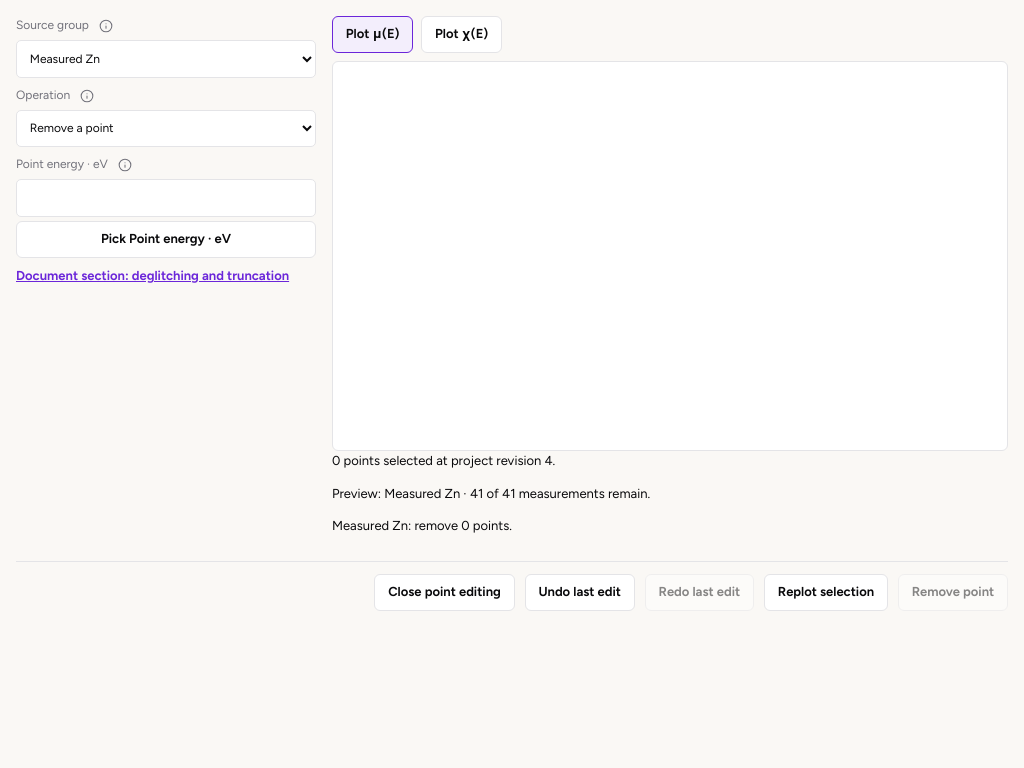
it: rejects an inconsistent plot response
This screenshot has width=1024, height=768.
Check: the text "0 points selected at project revision 4." is shown, box [332, 453, 555, 468]
Type "7032" into the number field labelled "Point energy · eV" at [166, 198], box [16, 179, 316, 217]
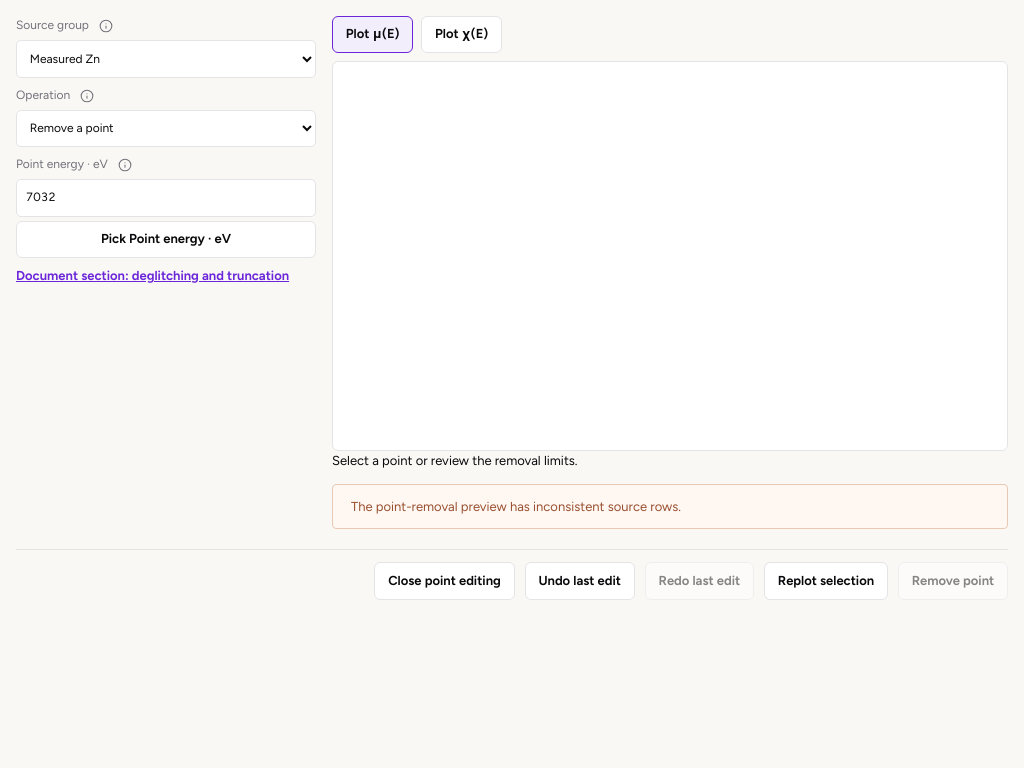
Check: the button "Remove point" is disabled, box [898, 562, 1008, 600]
Check: the message "The point-removal preview has inconsistent source rows." is shown, box [332, 484, 1008, 529]
